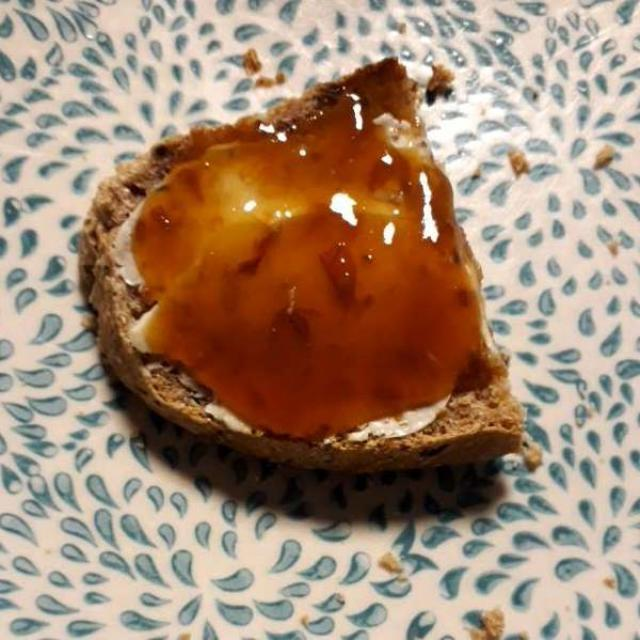bread: (98, 65, 529, 514)
jam: (128, 84, 504, 440)
